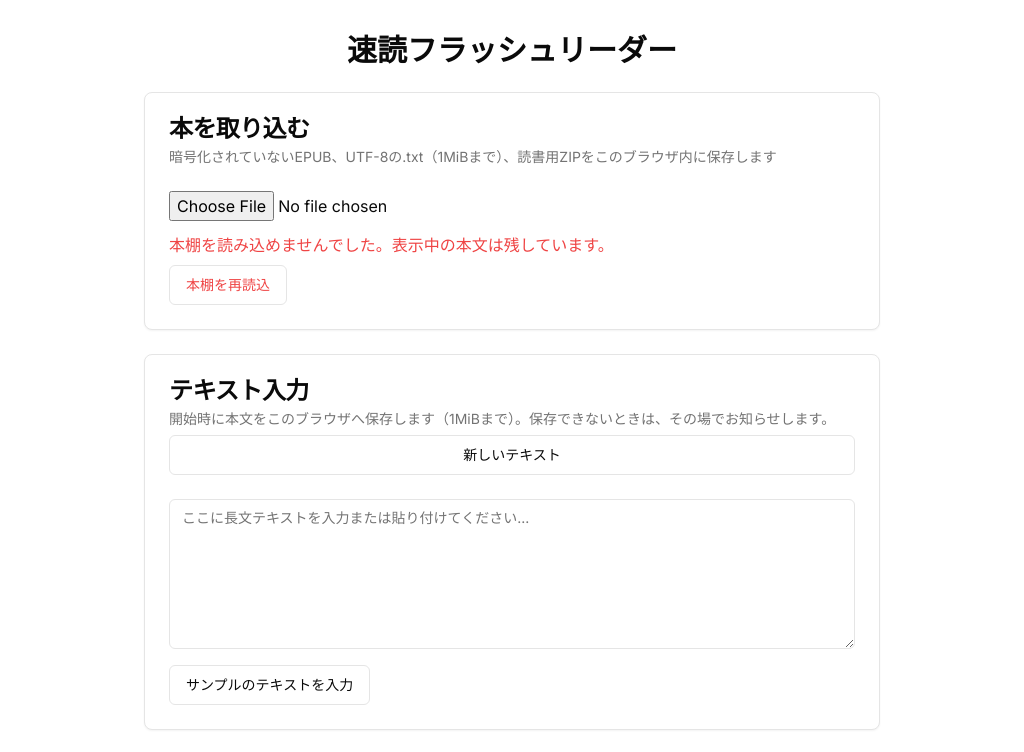
貼り付け本文の保存と復元 (HIR-75) › 初回からIndexedDBがなくても本棚と本文保存の失敗を表示し、入力を保つ
Expected: the text "本棚を読み込めませんでした。表示中の本文は残しています。" is shown, 169,235 -> 614,255
In the text box: (512, 574) 169,499 -> 855,649, type "保存拒否の合成本文"
(page scrolled)
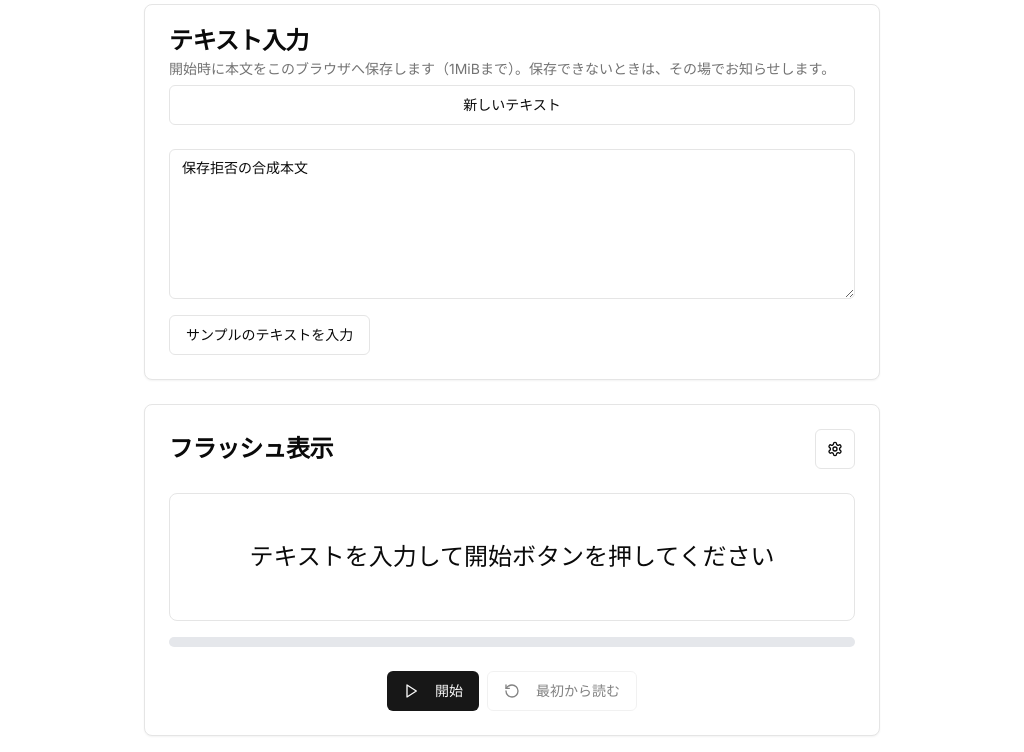
Click the button "開始": (433, 691) 387,671 -> 479,711
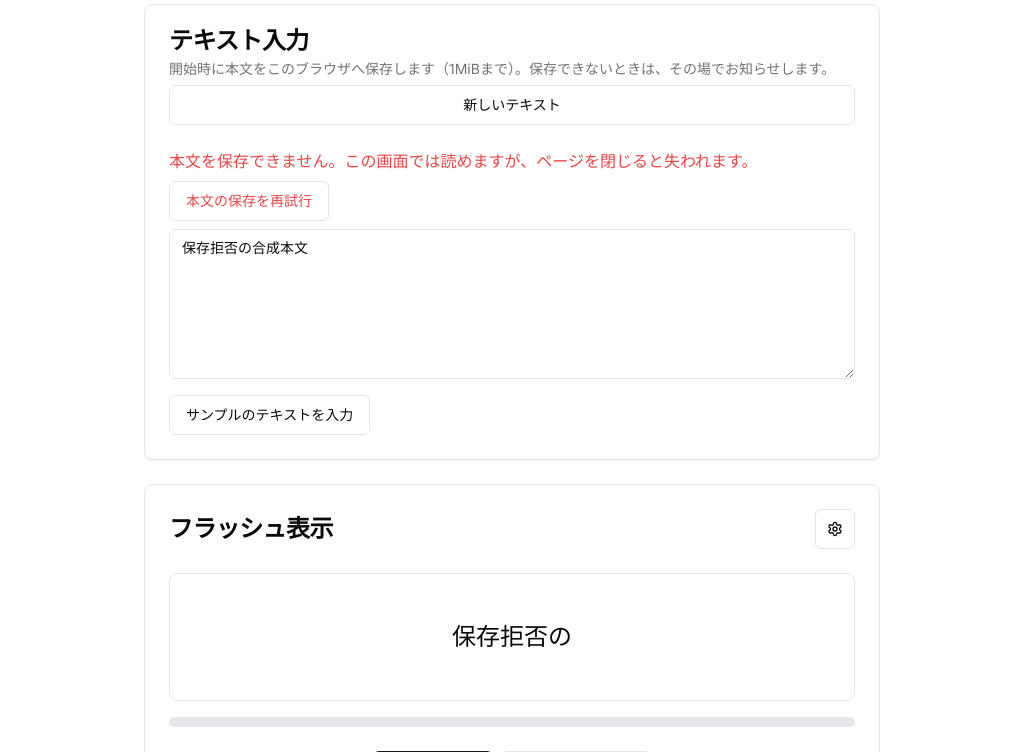
Now the text "本文を保存できません。この画面では読めますが、ページを閉じると失われます。" is shown, box 169,149 -> 855,173
